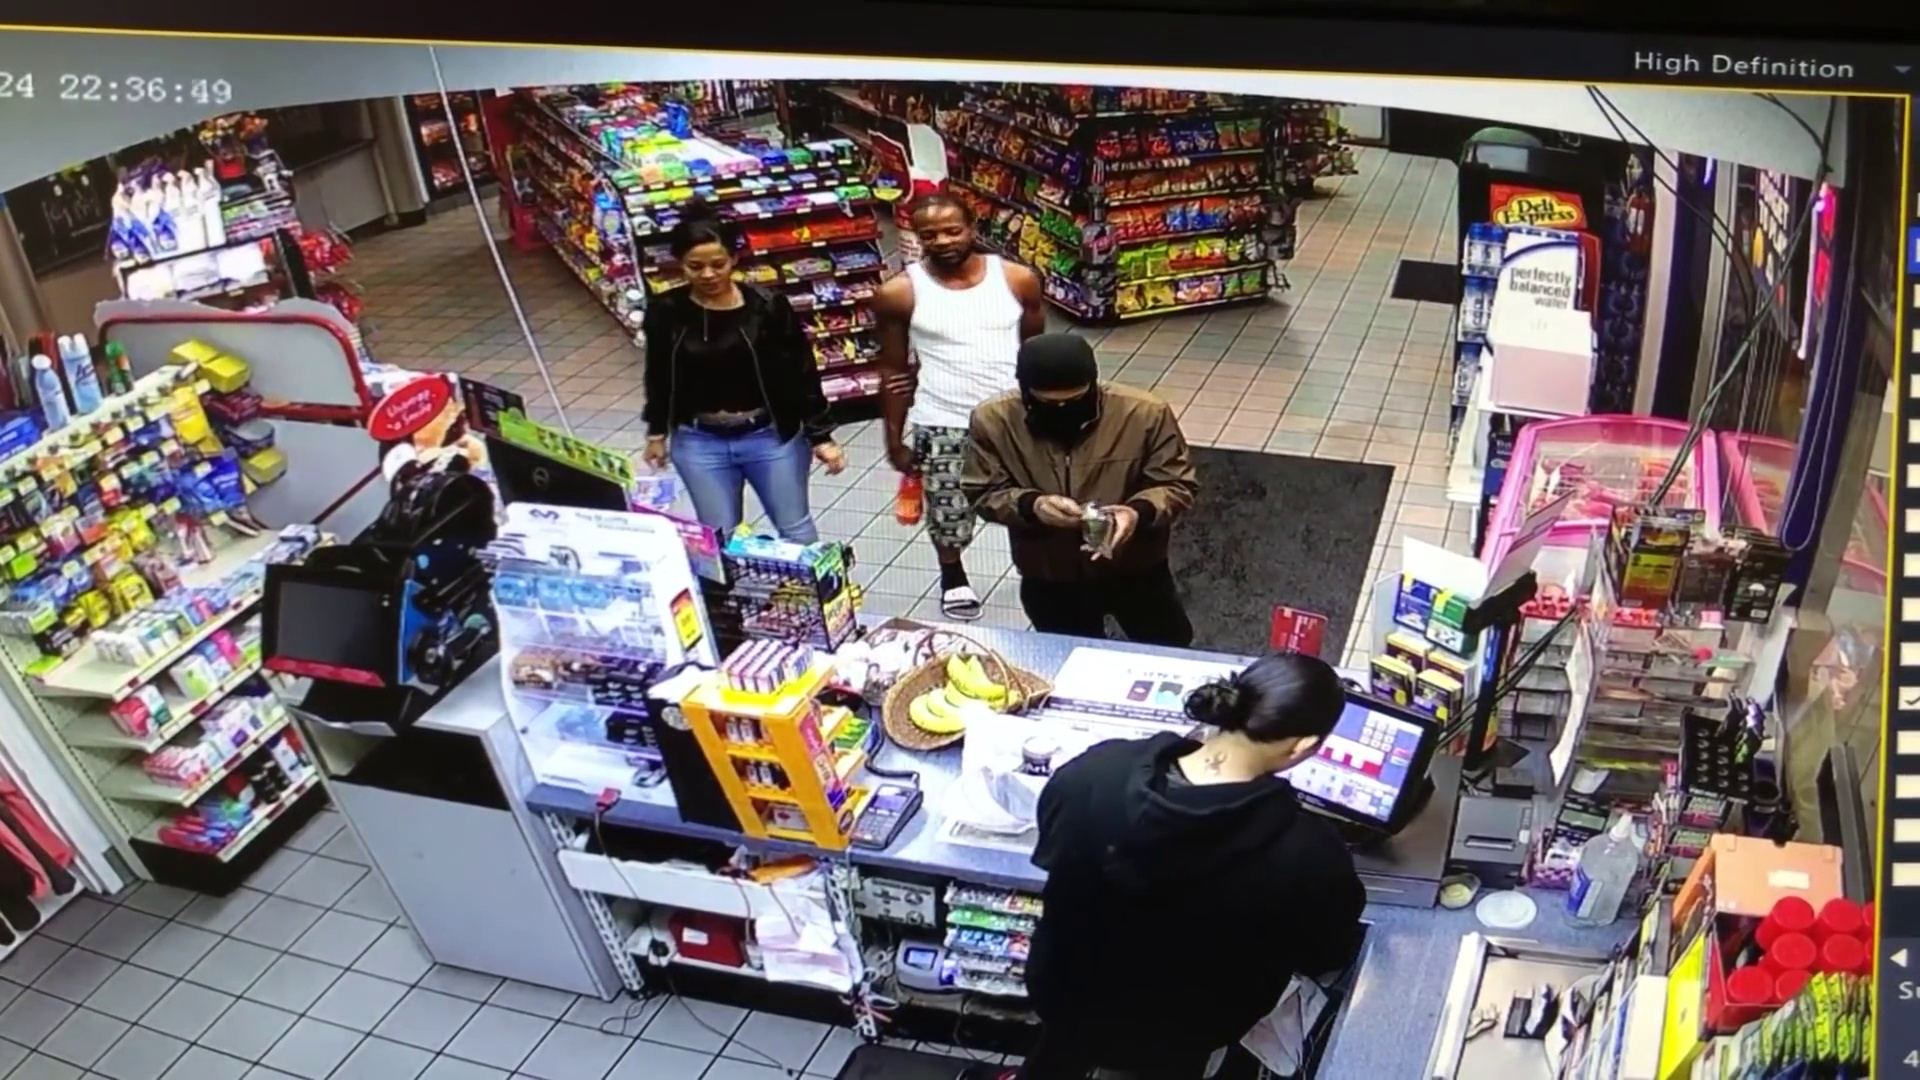face: (1024, 366, 1102, 438), (679, 241, 733, 312), (913, 211, 980, 264)
